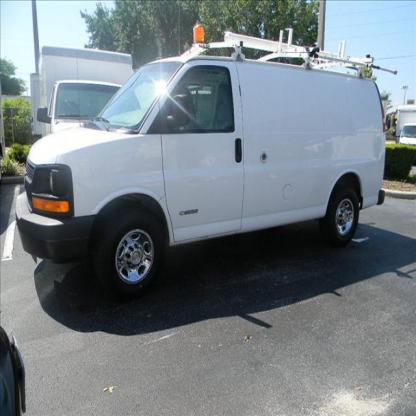Vehicle: (15, 52, 388, 302)
